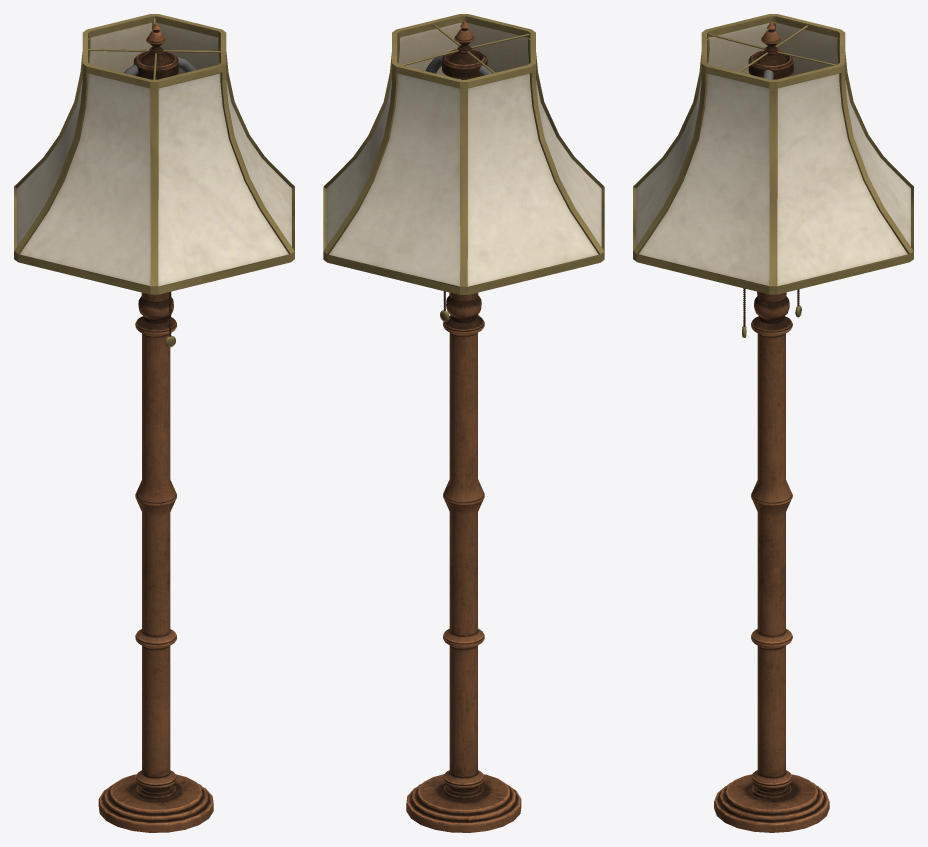
3 views of the same model, side by side, from view 1: azimuth 30°, elevation 25°; view 2: azimuth 150°, elevation 25°; view 3: azimuth 270°, elevation 25° (orthographic).
Parts seen in each view (by area): view 1: LampShade_LP, Rod_LP, MainSupport_LP; view 2: LampShade_LP, Rod_LP, MainSupport_LP; view 3: LampShade_LP, Rod_LP, MainSupport_LP.
Part boxes in pixels (<box>): LampShade_LP: <box>14,14,294,294</box>; Rod_LP: <box>98,292,213,832</box>; MainSupport_LP: <box>124,22,196,79</box>; LampShade_LP: <box>323,14,604,294</box>; Rod_LP: <box>406,292,521,832</box>; MainSupport_LP: <box>425,21,492,79</box>; LampShade_LP: <box>633,14,913,294</box>; Rod_LP: <box>714,291,829,832</box>; MainSupport_LP: <box>748,22,793,79</box>.
Bounding box in the file's own units: 55.09 × 149 × 48.36.
1 material, 1 textured.
